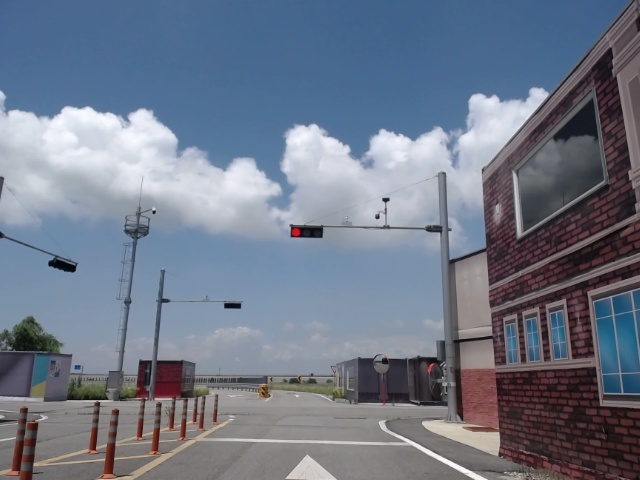red_3: (290, 226, 325, 238)
